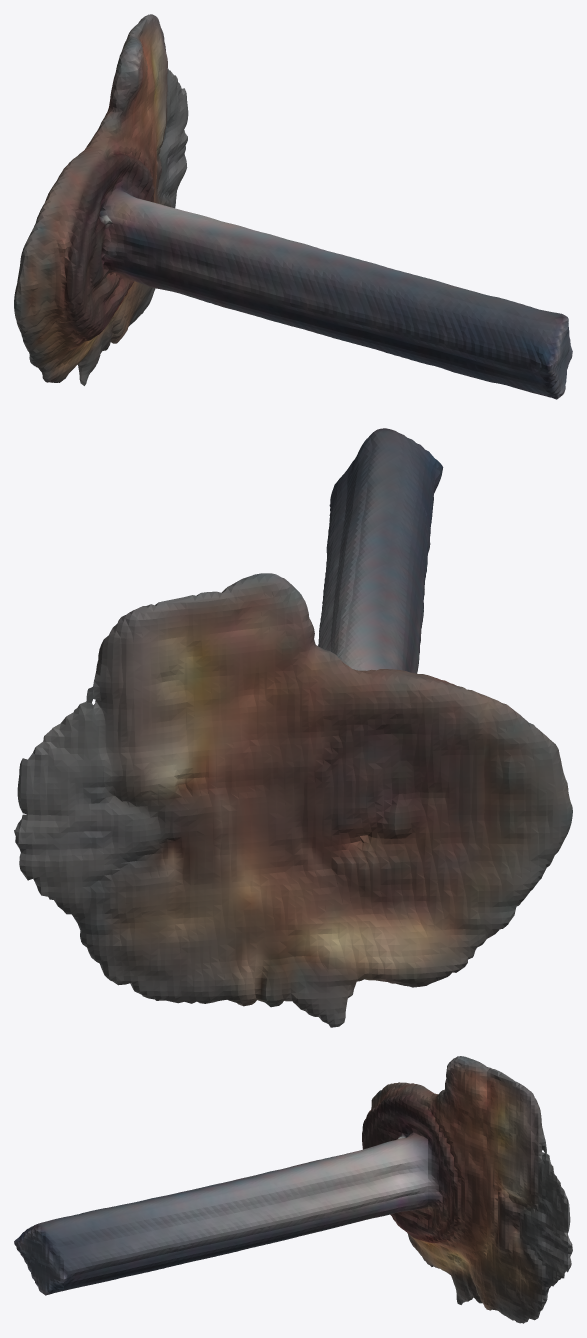
3 views of the same model, one above another, from view 1: azimuth 30°, elevation 25°; view 2: azimuth 150°, elevation 25°; view 3: azimuth 270°, elevation 25° (orthographic). The views are drawn at different scales.
Size of the model in its own units: 0.647 by 0.5457 by 1.04.
